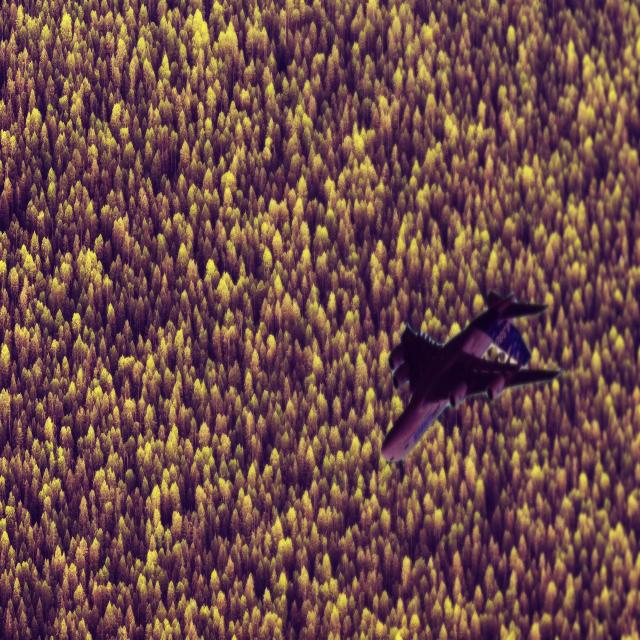airplane: (380, 287, 561, 464)
